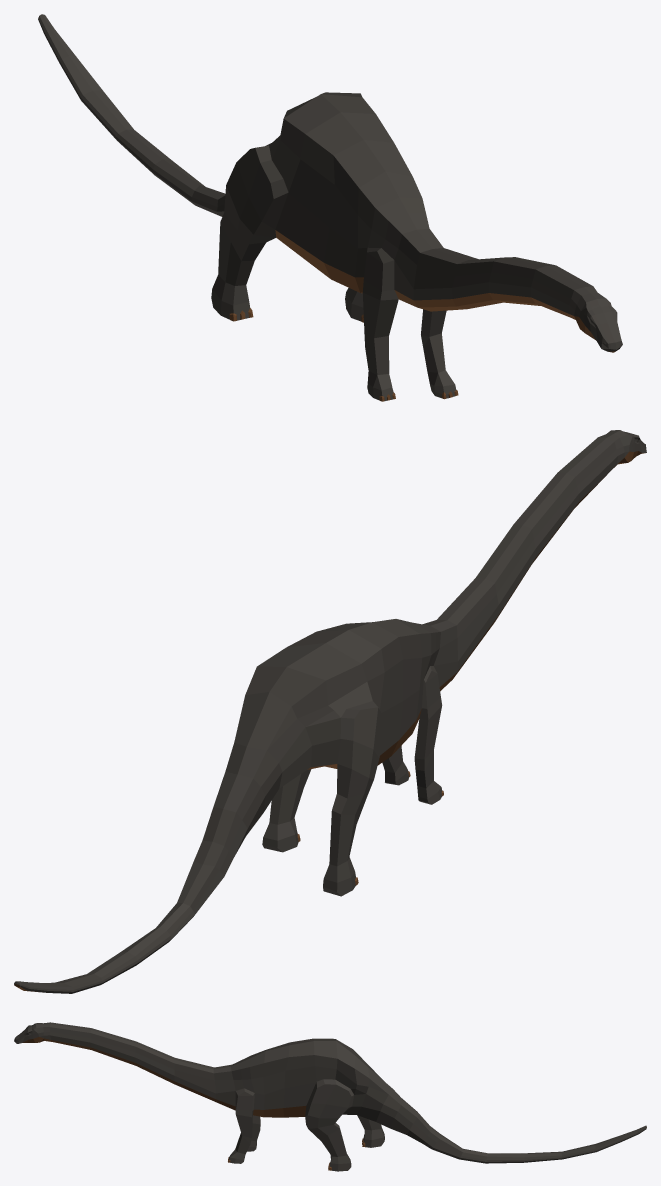
Rendered from cc0-apatosaurus-lod1.glb.
3 renders of one model, top to bottom at view 1: azimuth 30°, elevation 25°; view 2: azimuth 150°, elevation 25°; view 3: azimuth 270°, elevation 25°, orthographic. The views are drawn at different scales.
Parts seen in each view (by area): view 1: part_0; view 2: part_0; view 3: part_0.
Boxes of the visible parts, <box> form: part_0: <box>38,14,622,401</box>; part_0: <box>14,430,646,993</box>; part_0: <box>14,1022,646,1171</box>.
Bounding box in the file's own units: 5.7 × 11.01 × 49.56.
